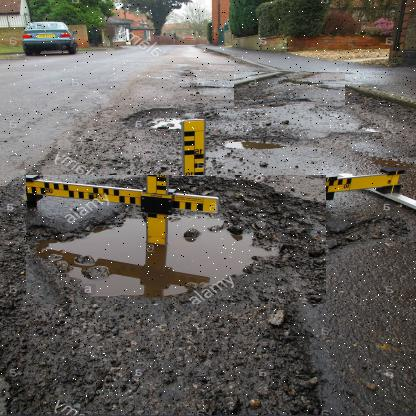damage: (233, 72, 345, 112)
pothole: (119, 101, 200, 138)
pothole_water: (25, 175, 326, 305), (211, 131, 296, 156)
